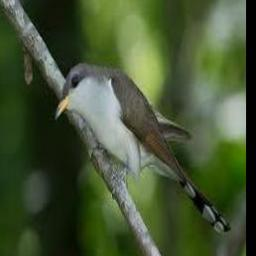Cuckoo: (55, 62, 230, 234)
